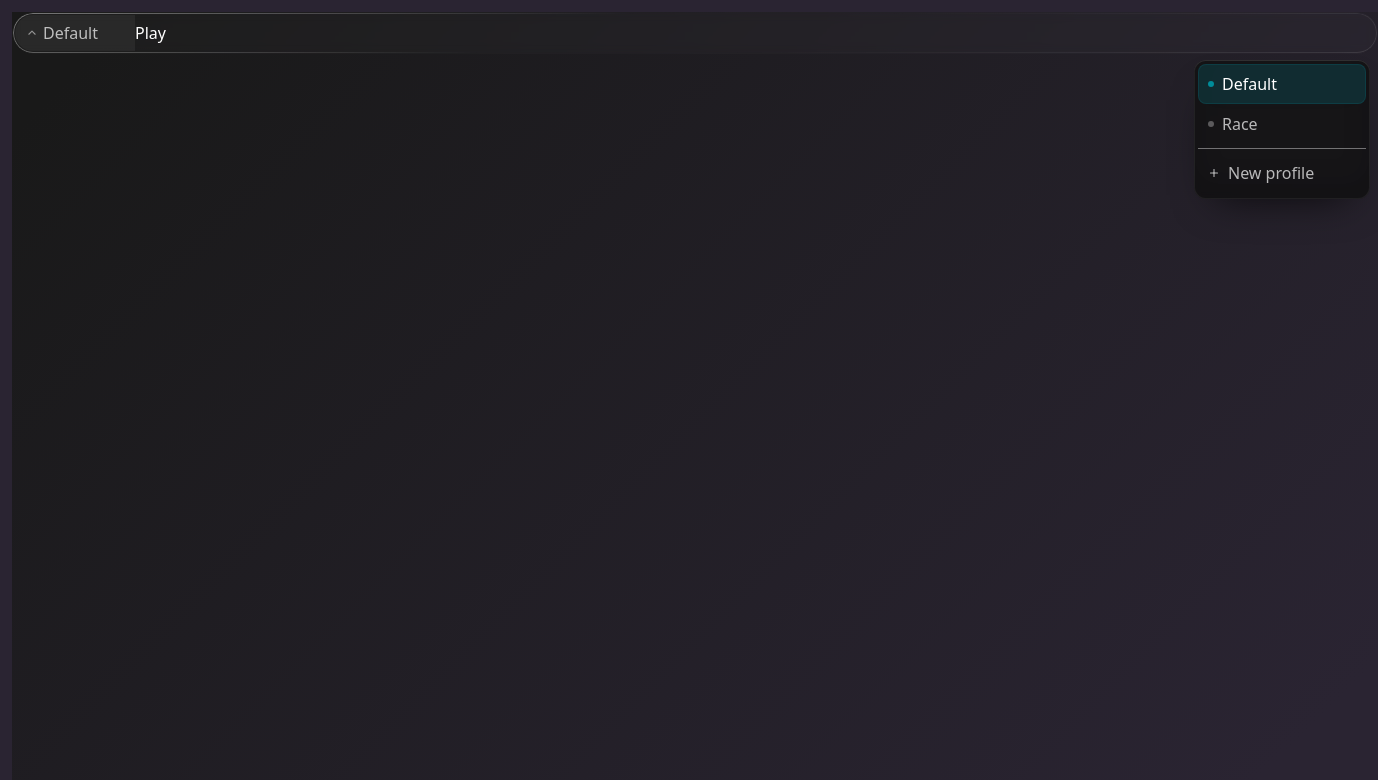
GameRowProfileMenu positioning (#884) › a press inside the portalled menu keeps it open; a press elsewhere closes it
Press the mouse on the menu item "Default" at (1282, 84), box [1198,64,1366,104]
Check: the menu is shown, box [1194,60,1370,199]
Press the mouse on the element showing "Default Play" at (695, 33), box [12,12,1377,54]
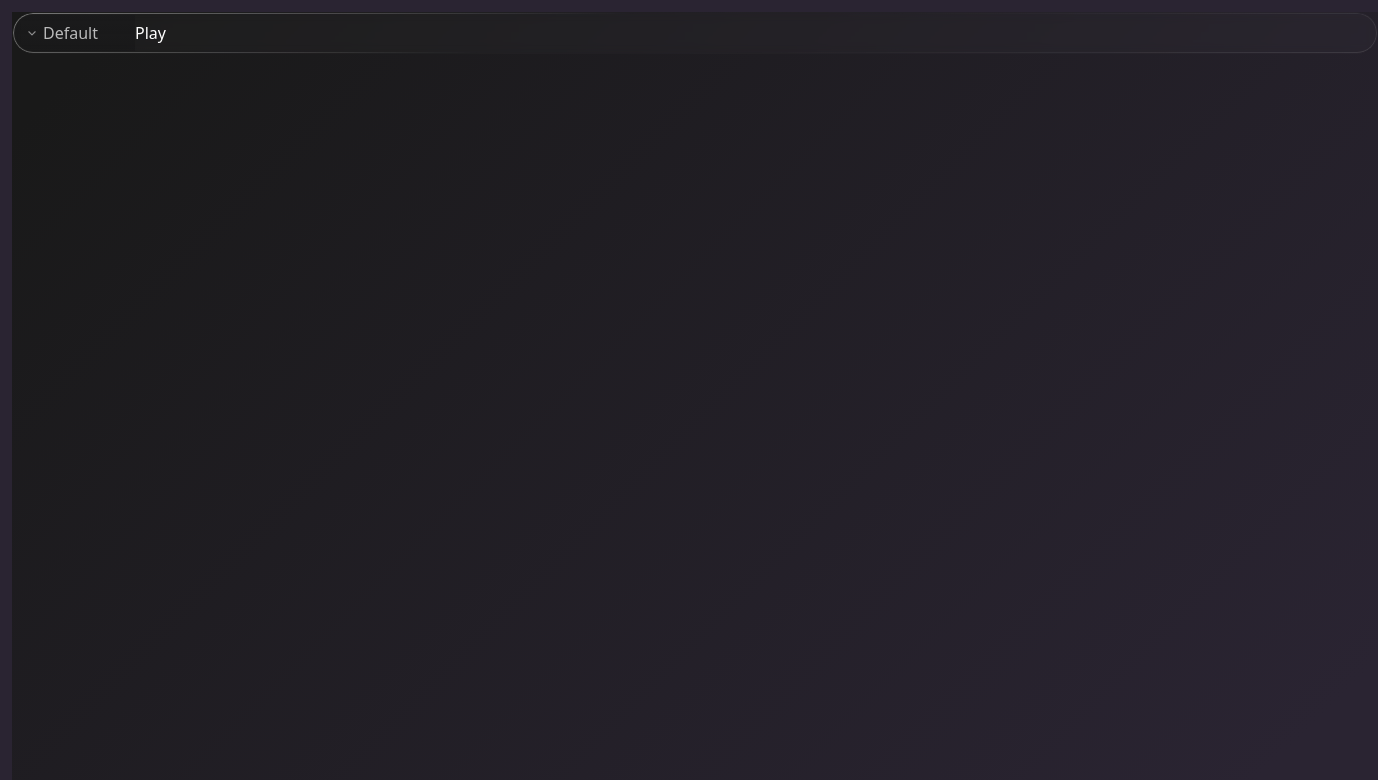
Check: the menu is gone
